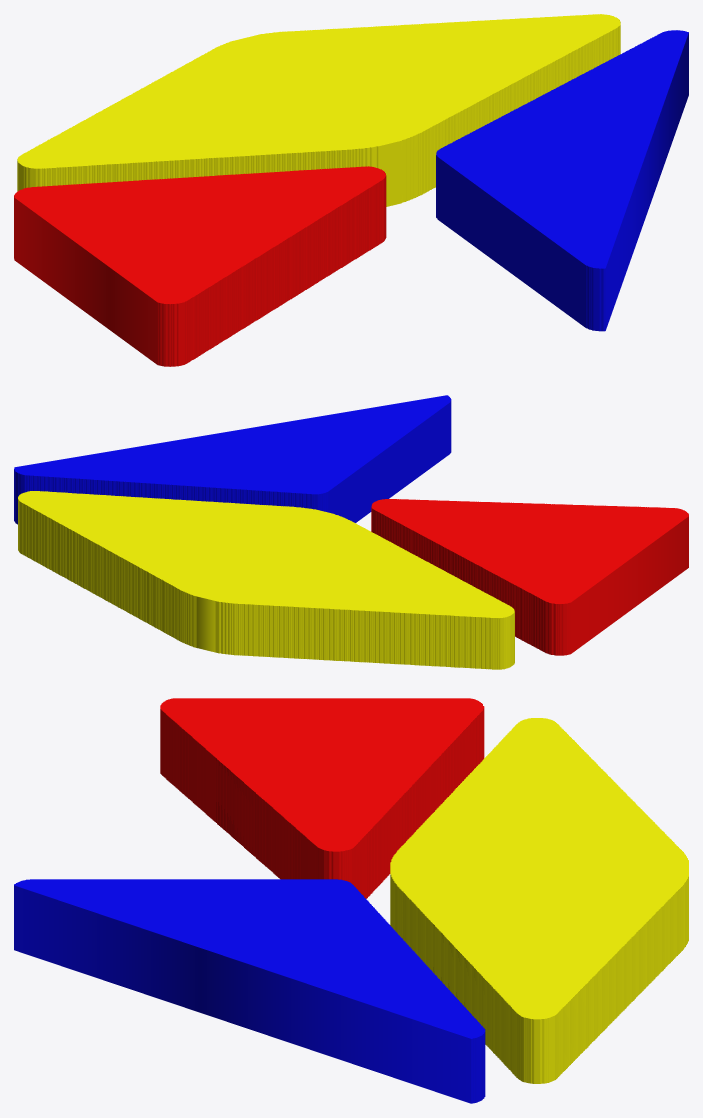
File: airtable2.glb
The picture shows the model from 3 angles, top to bottom: view 1: azimuth 30°, elevation 25°; view 2: azimuth 150°, elevation 25°; view 3: azimuth 270°, elevation 25°; orthographic projection. The views are drawn at different scales.
Visible parts, largest first — view 1: Curve, Curve.001, Curve.002; view 2: Curve, Curve.001, Curve.002; view 3: Curve, Curve.002, Curve.001.
Boxes of the visible parts, <box> form: Curve: <box>17,14,620,206</box>; Curve.001: <box>14,166,386,366</box>; Curve.002: <box>436,30,688,331</box>; Curve: <box>18,491,514,669</box>; Curve.001: <box>371,499,688,655</box>; Curve.002: <box>14,395,451,524</box>; Curve: <box>390,718,688,1083</box>; Curve.002: <box>14,879,485,1103</box>; Curve.001: <box>160,698,484,898</box>.
Bounding box in the file's own units: 0.2255 × 0.02 × 0.1888.
